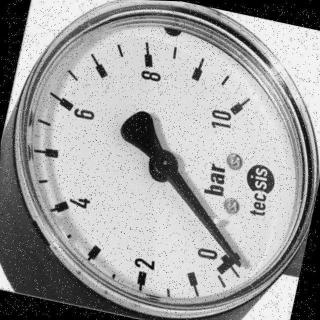gauge: (0, 0, 320, 320), (200, 234, 252, 282), (214, 86, 256, 138), (147, 148, 181, 182), (229, 255, 245, 273)
